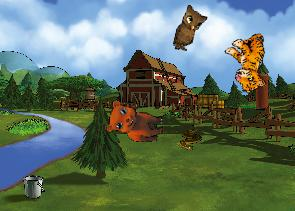bear: (105, 99, 165, 142)
owl: (172, 3, 209, 55)
tiger: (218, 27, 283, 96)
